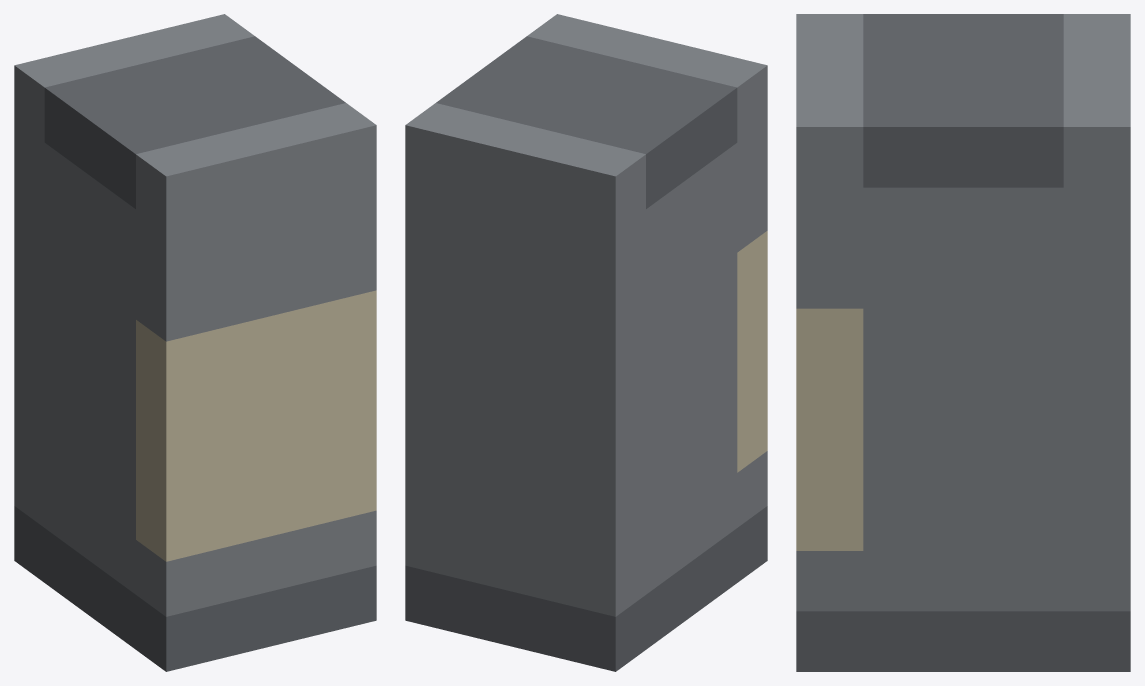
The model's file is right_thigh.glb.
3 views of the same model, side by side, from view 1: azimuth 30°, elevation 25°; view 2: azimuth 150°, elevation 25°; view 3: azimuth 270°, elevation 25° (orthographic). The views are drawn at different scales.
Bounding box in the file's own units: 4 × 9 × 5.
